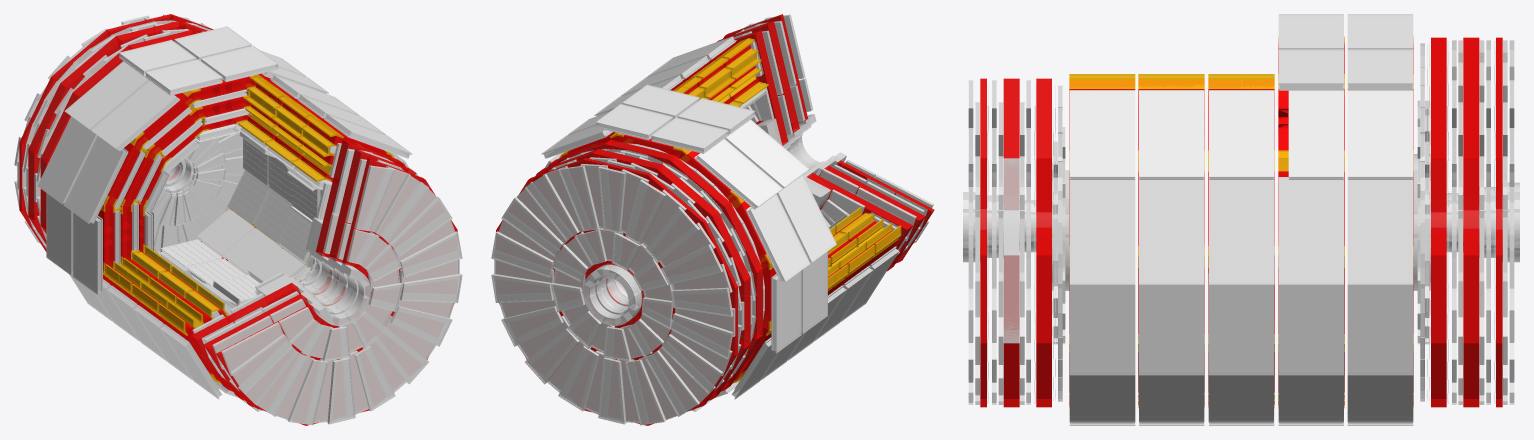
The model's file is muon-0.glb.
The picture shows the model from 3 angles, left to right: view 1: azimuth 30°, elevation 25°; view 2: azimuth 150°, elevation 25°; view 3: azimuth 270°, elevation 25°; orthographic projection. The views are drawn at different scales.
Parts seen in each view (by area): view 1: Mesh3081 mb4_MB4BigSuperLayerPhi_materials_Air19 lp_mb4_MB4B, Mesh3527 mb4_MB4BigSuperLayerPhi_materials_Air31 lp_mb4_MB4B, Mesh3077 mb4_MB4BigSuperLayerPhi_materials_Air17 lp_mb4_MB4B, Mesh3078 mb4_MB4BigHoneycombBox_materials_Air8 lp_mb4_MB4Big, Mesh3523 mb4_MB4BigSuperLayerPhi_materials_Air29 lp_mb4_MB4B, Mesh3524 mb4_MB4BigHoneycombBox_materials_Air14 lp_mb4_MB4Bi, Mesh3085 mb4_MB4BigSuperLayerPhi_materials_Air21 lp_mb4_MB4B, Mesh3531 mb4_MB4BigSuperLayerPhi_materials_Air33 lp_mb4_MB4B, Mesh1414 mf_ME42AlumFrame_materials_M_Aluminium6 lp_mf_ME42A, Mesh1513 mf_ME42AlumFrame_materials_M_Aluminium23 lp_mf_ME42, Mesh1365 mf_ME42AlumFrame_materials_M_Aluminium1 lp_mf_ME42A, Mesh1427 mf_ME42AlumFrame_materials_M_Aluminium8 lp_mf_ME42A (+66 smaller); view 2: Mesh3527 mb4_MB4BigSuperLayerPhi_materials_Air31 lp_mb4_MB4B, Mesh3081 mb4_MB4BigSuperLayerPhi_materials_Air19 lp_mb4_MB4B, Mesh3523 mb4_MB4BigSuperLayerPhi_materials_Air29 lp_mb4_MB4B, Mesh3077 mb4_MB4BigSuperLayerPhi_materials_Air17 lp_mb4_MB4B, Mesh3524 mb4_MB4BigHoneycombBox_materials_Air14 lp_mb4_MB4Bi, Mesh3078 mb4_MB4BigHoneycombBox_materials_Air8 lp_mb4_MB4Big, Mesh3531 mb4_MB4BigSuperLayerPhi_materials_Air33 lp_mb4_MB4B, Mesh3085 mb4_MB4BigSuperLayerPhi_materials_Air21 lp_mb4_MB4B, Mesh1563 mf_ME42AlumFrame_materials_M_Aluminium45 lp_mf_ME42, Mesh1572 mf_ME42AlumFrame_materials_M_Aluminium54 lp_mf_ME42, Mesh1560 mf_ME42AlumFrame_materials_M_Aluminium42 lp_mf_ME42, Mesh1569 mf_ME42AlumFrame_materials_M_Aluminium51 lp_mf_ME42 (+83 smaller); view 3: Mesh170 mb4_MB4BigSuperLayerPhi_materials_Air1 lp_mb4_MB4Big, Mesh3219 mb4_MB4BigSuperLayerPhi_materials_Air25 lp_mb4_MB4B, Mesh2498 mb4_MB4BigSuperLayerPhi_materials_Air15 lp_mb4_MB4B, Mesh717 mb4_MB4BigSuperLayerPhi_materials_Air9 lp_mb4_MB4Big, Mesh4308 mb4_MB4BigSuperLayerPhi_materials_Air35 lp_mb4_MB4B, Mesh275 mb4_MB4BigSuperLayerPhi_materials_Air3 lp_mb4_MB4Big, Mesh3215 mb4_MB4BigSuperLayerPhi_materials_Air23 lp_mb4_MB4B, Mesh4387 mb4_MB4BigSuperLayerPhi_materials_Air39 lp_mb4_MB4B, Mesh713 mb4_MB4BigSuperLayerPhi_materials_Air7 lp_mb4_MB4Big, Mesh2494 mb4_MB4BigSuperLayerPhi_materials_Air13 lp_mb4_MB4B, Mesh379 mb4_MB4BigSuperLayerPhi_materials_Air5 lp_mb4_MB4Big, Mesh3223 mb4_MB4BigSuperLayerPhi_materials_Air27 lp_mb4_MB4B (+53 smaller).
Part boxes in pixels (x1,y1,x2,y2): Mesh3081 mb4_MB4BigSuperLayerPhi_materials_Air19 lp_mb4_MB4B: (63, 135, 123, 223); Mesh3527 mb4_MB4BigSuperLayerPhi_materials_Air31 lp_mb4_MB4B: (37, 116, 96, 204); Mesh3077 mb4_MB4BigSuperLayerPhi_materials_Air17 lp_mb4_MB4B: (91, 80, 176, 148); Mesh3078 mb4_MB4BigHoneycombBox_materials_Air8 lp_mb4_MB4Big: (94, 82, 177, 149); Mesh3523 mb4_MB4BigSuperLayerPhi_materials_Air29 lp_mb4_MB4B: (64, 61, 148, 129); Mesh3524 mb4_MB4BigHoneycombBox_materials_Air14 lp_mb4_MB4Bi: (67, 62, 149, 129); Mesh3085 mb4_MB4BigSuperLayerPhi_materials_Air21 lp_mb4_MB4B: (72, 212, 98, 294); Mesh3531 mb4_MB4BigSuperLayerPhi_materials_Air33 lp_mb4_MB4B: (46, 193, 71, 275); Mesh1414 mf_ME42AlumFrame_materials_M_Aluminium6 lp_mf_ME42A: (287, 359, 328, 425); Mesh1513 mf_ME42AlumFrame_materials_M_Aluminium23 lp_mf_ME42: (354, 165, 395, 231); Mesh1365 mf_ME42AlumFrame_materials_M_Aluminium1 lp_mf_ME42A: (400, 231, 462, 277); Mesh1427 mf_ME42AlumFrame_materials_M_Aluminium8 lp_mf_ME42A: (390, 196, 452, 256); Mesh3527 mb4_MB4BigSuperLayerPhi_materials_Air31 lp_mb4_MB4B: (750, 194, 810, 281); Mesh3081 mb4_MB4BigSuperLayerPhi_materials_Air19 lp_mb4_MB4B: (777, 175, 836, 262); Mesh3523 mb4_MB4BigSuperLayerPhi_materials_Air29 lp_mb4_MB4B: (697, 139, 783, 207); Mesh3077 mb4_MB4BigSuperLayerPhi_materials_Air17 lp_mb4_MB4B: (725, 119, 809, 187); Mesh3524 mb4_MB4BigHoneycombBox_materials_Air14 lp_mb4_MB4Bi: (696, 141, 780, 208); Mesh3078 mb4_MB4BigHoneycombBox_materials_Air8 lp_mb4_MB4Big: (725, 121, 806, 187); Mesh3531 mb4_MB4BigSuperLayerPhi_materials_Air33 lp_mb4_MB4B: (775, 270, 801, 353); Mesh3085 mb4_MB4BigSuperLayerPhi_materials_Air21 lp_mb4_MB4B: (802, 251, 827, 333); Mesh1563 mf_ME42AlumFrame_materials_M_Aluminium45 lp_mf_ME42: (558, 165, 599, 231); Mesh1572 mf_ME42AlumFrame_materials_M_Aluminium54 lp_mf_ME42: (625, 359, 666, 425); Mesh1560 mf_ME42AlumFrame_materials_M_Aluminium42 lp_mf_ME42: (491, 231, 553, 277); Mesh1569 mf_ME42AlumFrame_materials_M_Aluminium51 lp_mf_ME42: (670, 313, 733, 359); Mesh170 mb4_MB4BigSuperLayerPhi_materials_Air1 lp_mb4_MB4Big: (1069, 179, 1135, 284); Mesh3219 mb4_MB4BigSuperLayerPhi_materials_Air25 lp_mb4_MB4B: (1347, 179, 1413, 284); Mesh2498 mb4_MB4BigSuperLayerPhi_materials_Air15 lp_mb4_MB4B: (1278, 178, 1343, 284); Mesh717 mb4_MB4BigSuperLayerPhi_materials_Air9 lp_mb4_MB4Big: (1139, 179, 1204, 284); Mesh4308 mb4_MB4BigSuperLayerPhi_materials_Air35 lp_mb4_MB4B: (1209, 179, 1274, 284); Mesh275 mb4_MB4BigSuperLayerPhi_materials_Air3 lp_mb4_MB4Big: (1069, 284, 1135, 375); Mesh3215 mb4_MB4BigSuperLayerPhi_materials_Air23 lp_mb4_MB4B: (1347, 284, 1413, 375); Mesh4387 mb4_MB4BigSuperLayerPhi_materials_Air39 lp_mb4_MB4B: (1208, 278, 1273, 375); Mesh713 mb4_MB4BigSuperLayerPhi_materials_Air7 lp_mb4_MB4Big: (1139, 284, 1204, 375); Mesh2494 mb4_MB4BigSuperLayerPhi_materials_Air13 lp_mb4_MB4B: (1278, 284, 1343, 375); Mesh379 mb4_MB4BigSuperLayerPhi_materials_Air5 lp_mb4_MB4Big: (1069, 90, 1135, 177); Mesh3223 mb4_MB4BigSuperLayerPhi_materials_Air27 lp_mb4_MB4B: (1347, 90, 1413, 177).
Size of the model in its own units: 15.79 by 14.73 by 21.36.
